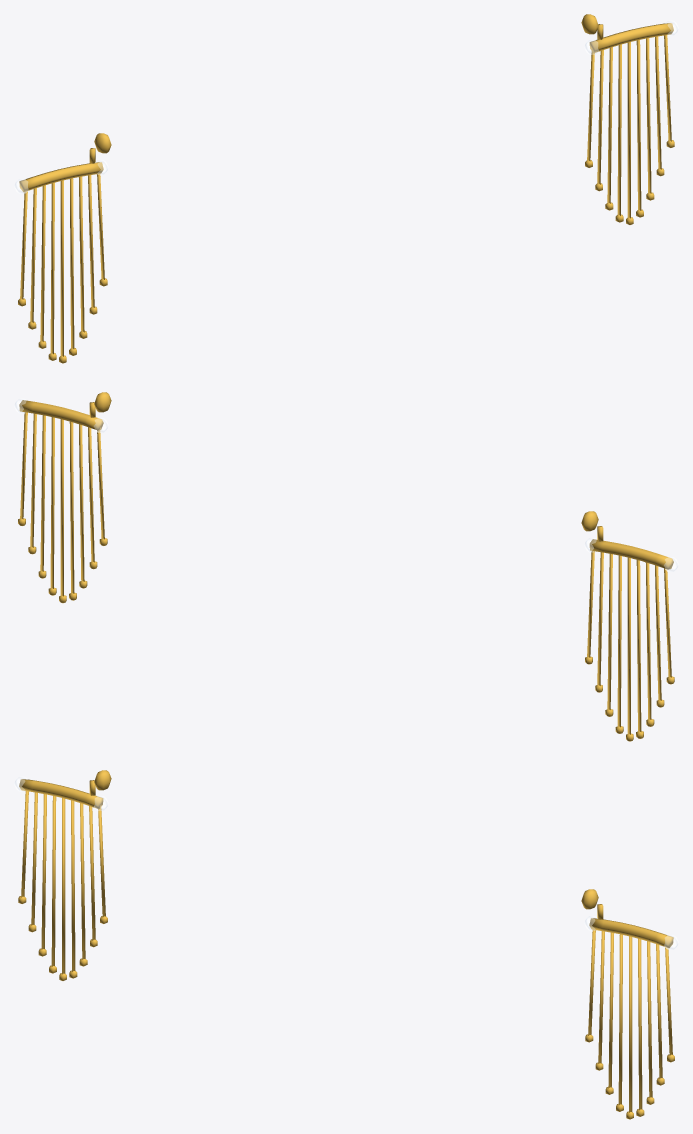
The model's file is fringe_earrings.glb.
3 renders of one model, top to bottom at view 1: azimuth 30°, elevation 25°; view 2: azimuth 150°, elevation 25°; view 3: azimuth 330°, elevation 25°, orthographic.
Visible parts, largest first — view 1: fringe_earrings; view 2: fringe_earrings; view 3: fringe_earrings.
Boxes of the visible parts, x1,y1,x2,y2 form: fringe_earrings: [14, 14, 678, 363]; fringe_earrings: [14, 392, 678, 741]; fringe_earrings: [14, 770, 678, 1119].
Bounding box in the file's own units: 0.2783 × 0.0888 × 0.0081.
